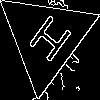H: (21, 13, 74, 72)
